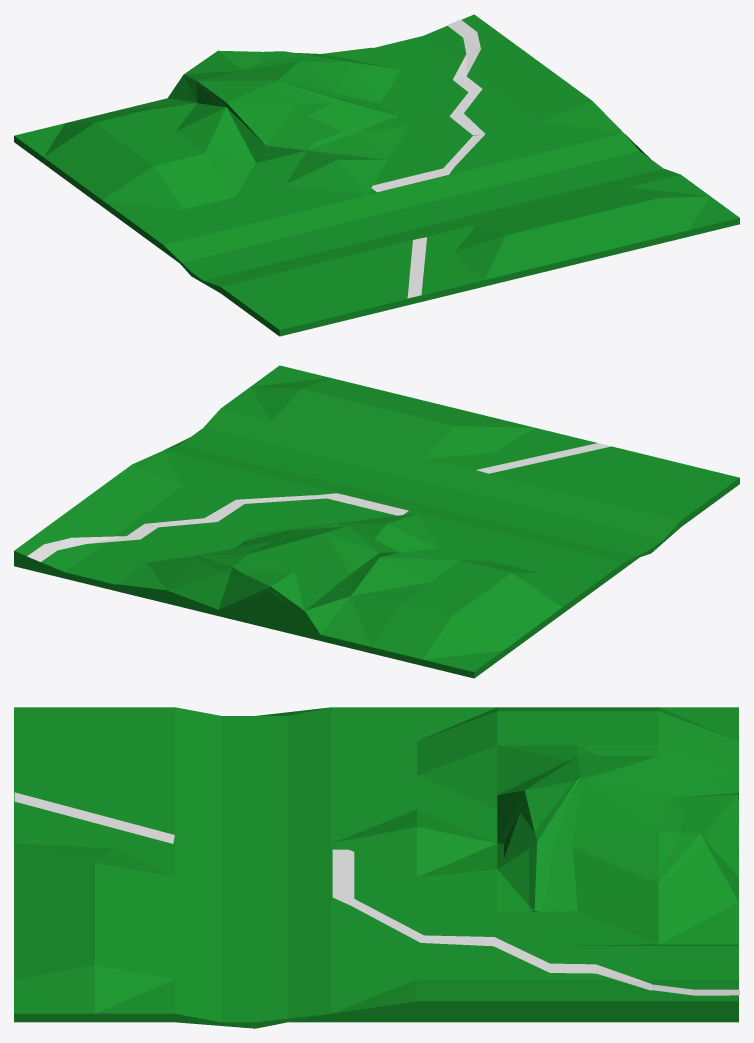
Rendered from parkground.dae.
3 views of the same model, one above another, from view 1: azimuth 30°, elevation 25°; view 2: azimuth 150°, elevation 25°; view 3: azimuth 270°, elevation 25° (orthographic). The views are drawn at different scales.
Visible parts, largest first — view 1: Grid, Plane_009, Plane_007; view 2: Grid, Plane_009, Plane_007; view 3: Grid, Plane_009, Plane_007, Plane_006, Plane_005, Plane_004.
Part boxes in pixels (x1=…): Grid: x1=14, y1=14, x2=739, y2=336; Plane_009: x1=407, y1=237, x2=426, y2=298; Plane_007: x1=371, y1=165, x2=455, y2=192; Grid: x1=14, y1=365, x2=739, y2=678; Plane_009: x1=476, y1=443, x2=610, y2=473; Plane_007: x1=316, y1=493, x2=408, y2=515; Grid: x1=14, y1=707, x2=738, y2=1028; Plane_009: x1=14, y1=792, x2=174, y2=843; Plane_007: x1=332, y1=849, x2=354, y2=906; Plane_006: x1=353, y1=898, x2=424, y2=942; Plane_005: x1=420, y1=935, x2=494, y2=946; Plane_004: x1=494, y1=937, x2=549, y2=972.
Bounding box in the file's own units: 16.63 × 16.65 × 2.02.
